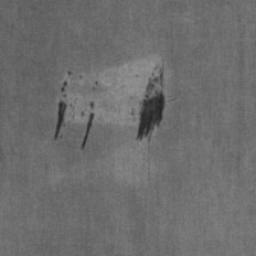Rolled pit: (137, 66, 165, 140), (54, 71, 72, 140), (81, 101, 95, 149)
